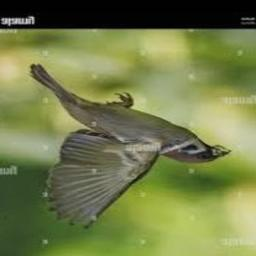Sparrow: (30, 65, 230, 228)
